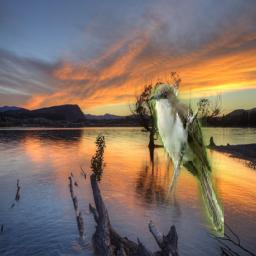Cuckoo: (150, 85, 225, 238)
